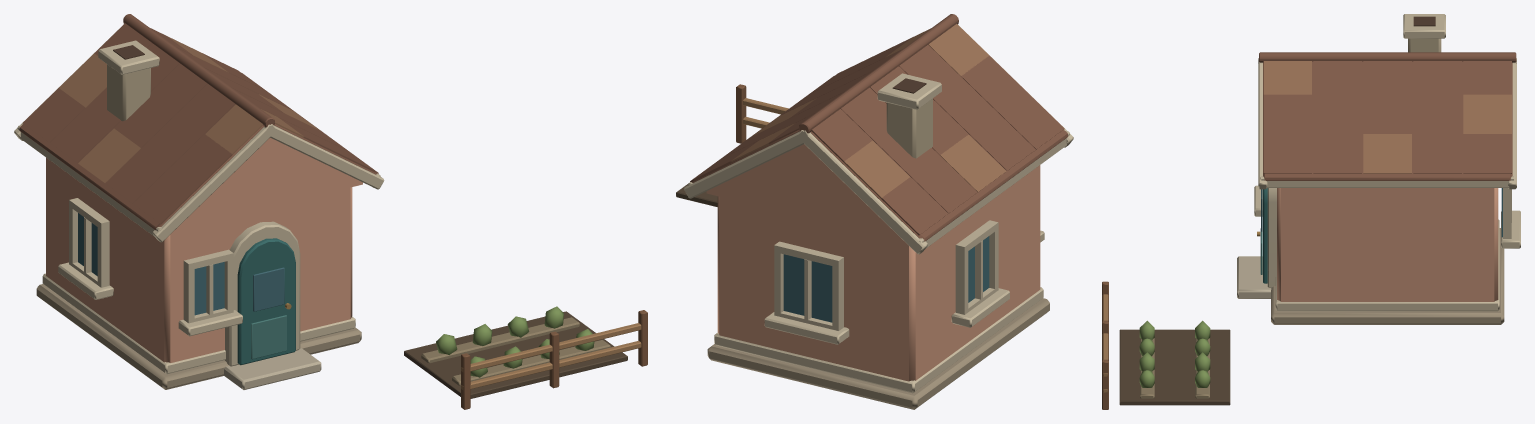
Rendered from farmstead_level_1.glb.
3 views of the same model, side by side, from view 1: azimuth 30°, elevation 25°; view 2: azimuth 150°, elevation 25°; view 3: azimuth 270°, elevation 25° (orthographic). The views are drawn at different scales.
Visible parts, largest first — view 1: farmstead_level_1_runtime; view 2: farmstead_level_1_runtime; view 3: farmstead_level_1_runtime.
Boxes of the visible parts, x1,y1,x2,y2 form: farmstead_level_1_runtime: [14, 14, 647, 409]; farmstead_level_1_runtime: [676, 14, 1073, 409]; farmstead_level_1_runtime: [1102, 14, 1520, 409].
Bounding box in the file's own units: 5.71 × 3.58 × 5.67.
